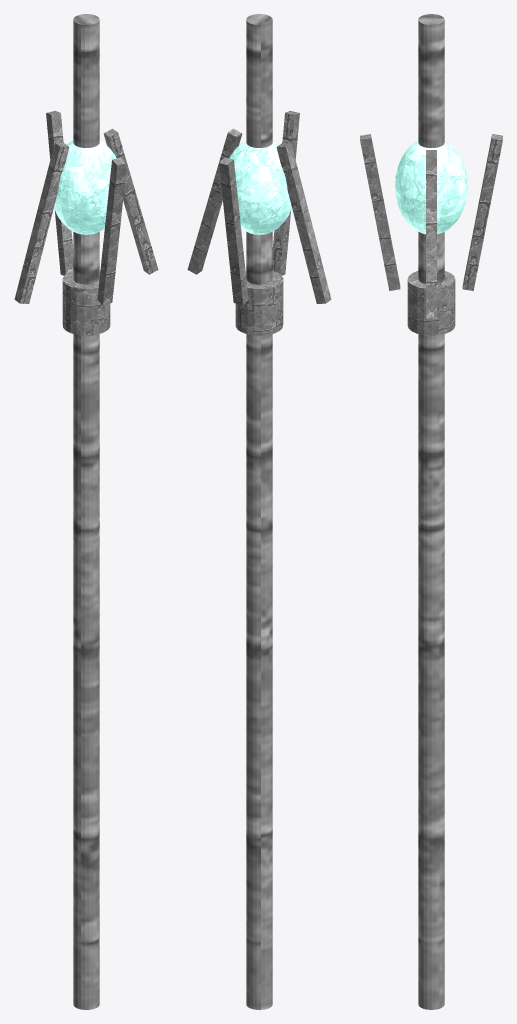
File: staff-spirit-crystal.glb
3 views of the same model, side by side, from view 1: azimuth 30°, elevation 25°; view 2: azimuth 150°, elevation 25°; view 3: azimuth 270°, elevation 25° (orthographic).
Visible parts, largest first — view 1: shaft, lantern, cage-2, collar, cage-1, cage-0, cage-3; view 2: shaft, lantern, cage-2, collar, cage-3, cage-0, cage-1; view 3: shaft, lantern, collar, cage-1, cage-3, cage-0.
Part boxes in pixels (x1,y1,x2,y2): shaft: [73, 14, 99, 1009]; lantern: [54, 141, 116, 234]; cage-2: [14, 142, 69, 303]; collar: [62, 271, 110, 335]; cage-1: [97, 157, 126, 305]; cage-0: [103, 128, 158, 274]; cage-3: [46, 110, 73, 275]; shaft: [246, 14, 272, 1009]; lantern: [229, 141, 291, 234]; cage-2: [276, 142, 331, 303]; collar: [235, 271, 283, 335]; cage-3: [219, 157, 248, 305]; cage-0: [187, 128, 242, 274]; cage-1: [272, 110, 299, 275]; shaft: [418, 14, 444, 1009]; lantern: [394, 141, 468, 234]; collar: [407, 271, 455, 335]; cage-1: [360, 134, 400, 290]; cage-3: [462, 134, 502, 290]; cage-0: [426, 150, 436, 318].
Size of the model in its own units: 0.4356 by 2.96 by 0.3894.
4 materials, 4 textured.
